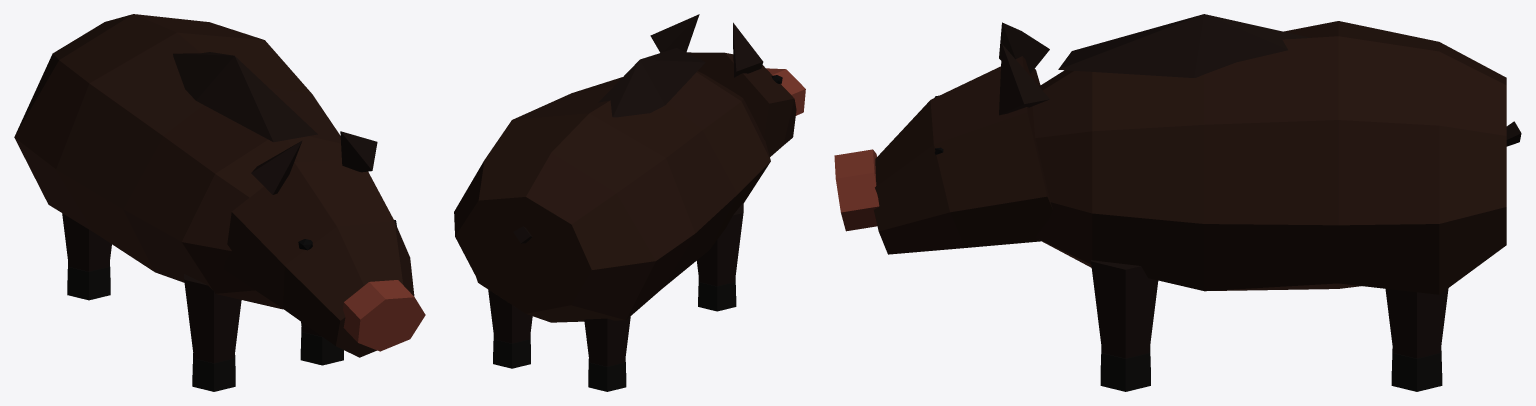
Rendered from boar.obj.
3 views of the same model, side by side, from view 1: azimuth 30°, elevation 25°; view 2: azimuth 150°, elevation 25°; view 3: azimuth 270°, elevation 25° (orthographic). The views are drawn at different scales.
Visible parts, largest first — view 1: Body, Head, LegFL, LegBL, LegFR; view 2: Body, Head, LegFL, LegBL, LegBR; view 3: Body, Head, LegFR, LegBR.
Part boxes in pixels (box(x1,y1,x2,y2)): Body: box(14, 14, 341, 309); Head: box(224, 131, 425, 357); LegFL: box(184, 274, 241, 391); LegBL: box(62, 213, 111, 300); LegFR: box(300, 322, 343, 365); Body: box(454, 48, 770, 322); Head: box(650, 14, 805, 156); LegFL: box(697, 203, 743, 311); LegBL: box(584, 316, 630, 391); LegBR: box(488, 289, 532, 368); Body: box(1032, 14, 1521, 294); Head: box(834, 22, 1052, 254); LegFR: box(1091, 260, 1158, 391); LegBR: box(1385, 288, 1448, 391).
Size of the model in its own units: 2.8 by 3.3 by 6.14.
